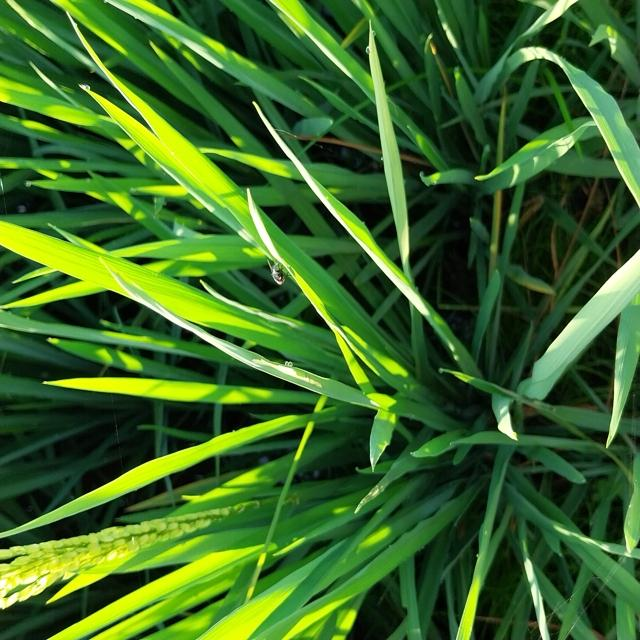Leaf scald: (260, 238, 288, 292)
